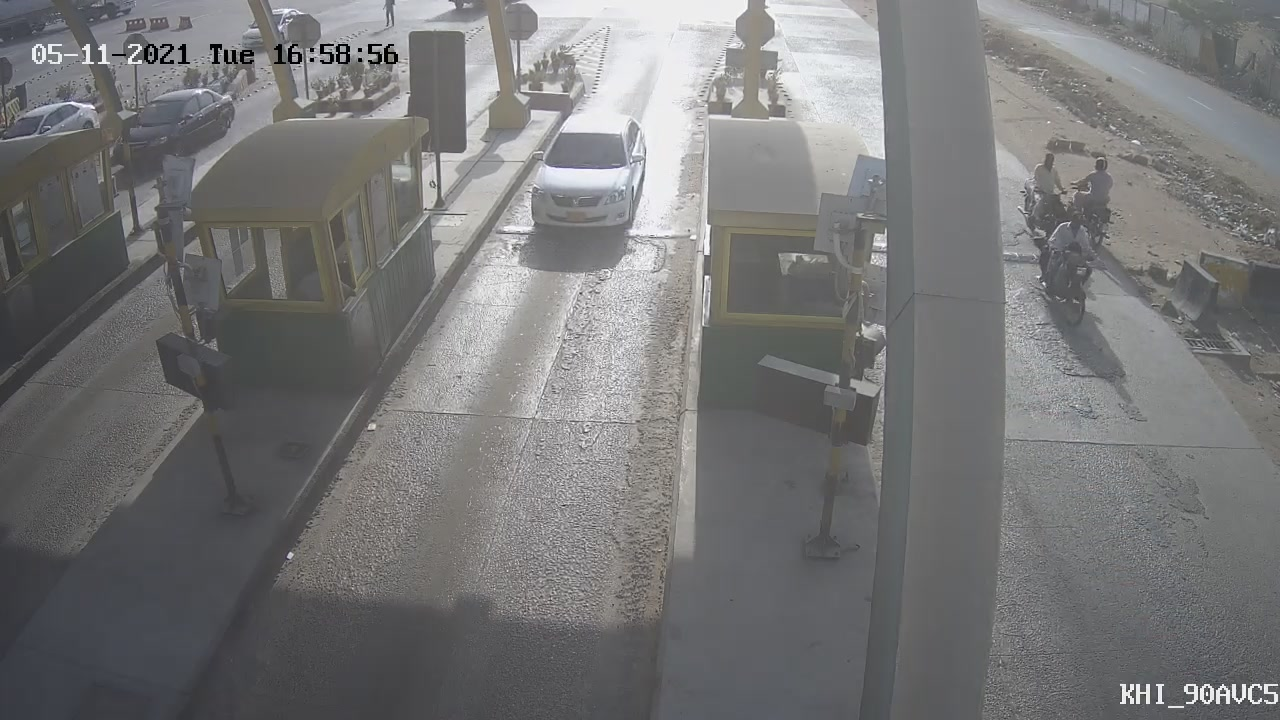F1: (507, 96, 664, 256)
